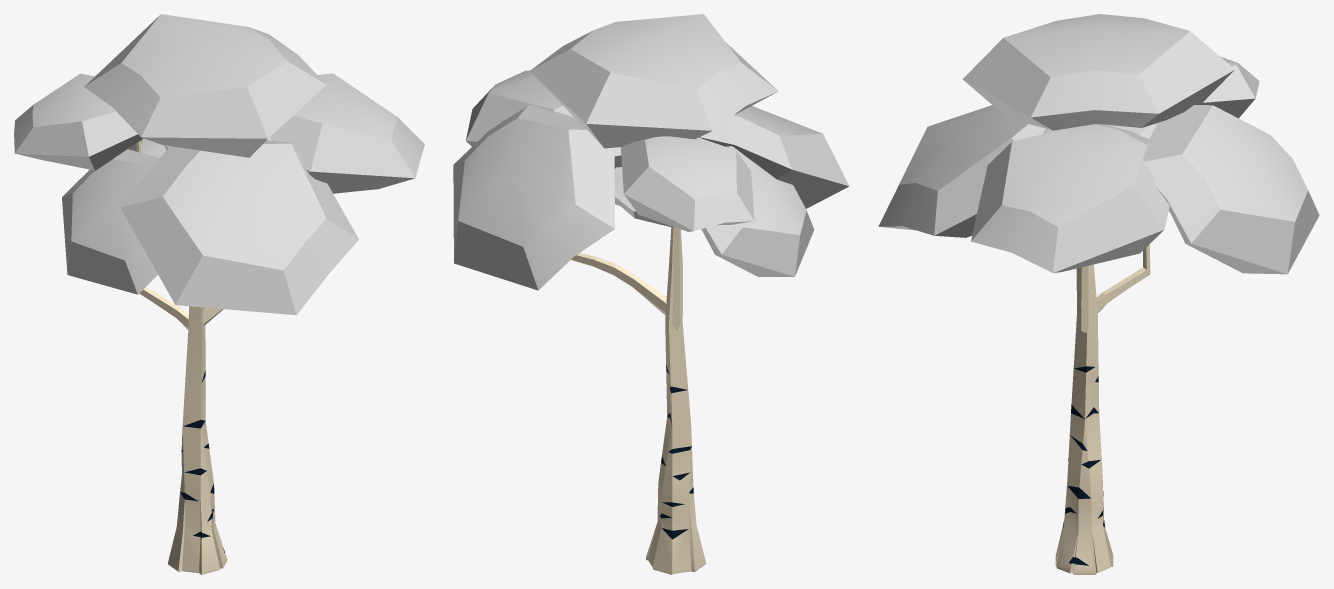
File: SM_Tree_A.fbx
The picture shows the model from 3 angles, left to right: view 1: azimuth 30°, elevation 25°; view 2: azimuth 150°, elevation 25°; view 3: azimuth 270°, elevation 25°; orthographic projection. The views are drawn at different scales.
Parts seen in each view (by area): view 1: SM_Tree; view 2: SM_Tree; view 3: SM_Tree.
Boxes of the visible parts, box(x1,y1,x2,y2) form: SM_Tree: box(14, 14, 424, 574); SM_Tree: box(453, 14, 849, 574); SM_Tree: box(878, 14, 1319, 574).
Size of the model in its own units: 447 by 638 by 471.
